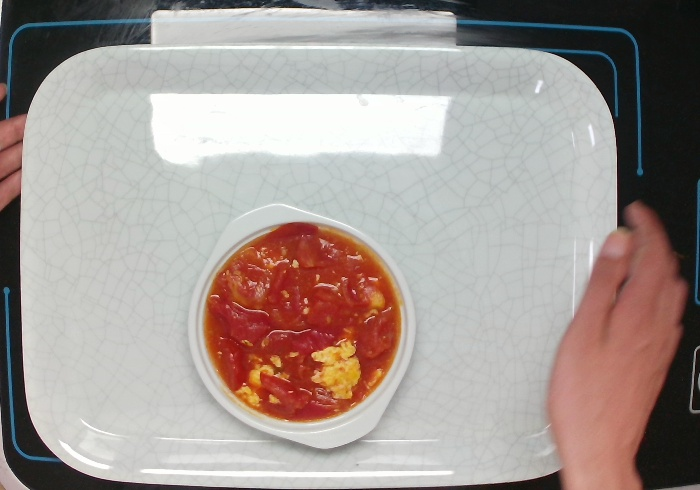JYsf-Shuang_Er_Pan: (183, 198, 422, 453)
